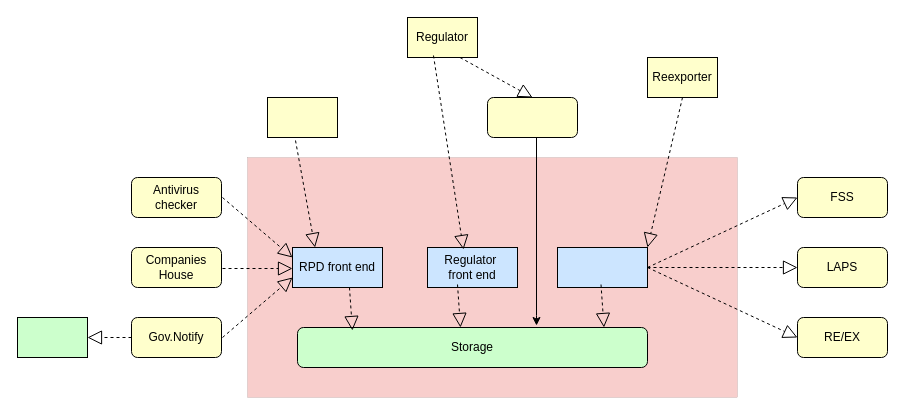
Image size: 905x415. Some labels were removed from this diagram. The shapes that lost their labels are listed below. From the top down, each one's box as (x1, y1, x2, y2) in pixels, then its label:
(266, 96, 338, 138): Producer
(486, 96, 578, 138): Power BI
(247, 157, 737, 397): Location: Azure UK South
(556, 246, 648, 288): PRN front end
(16, 316, 88, 358): Email
